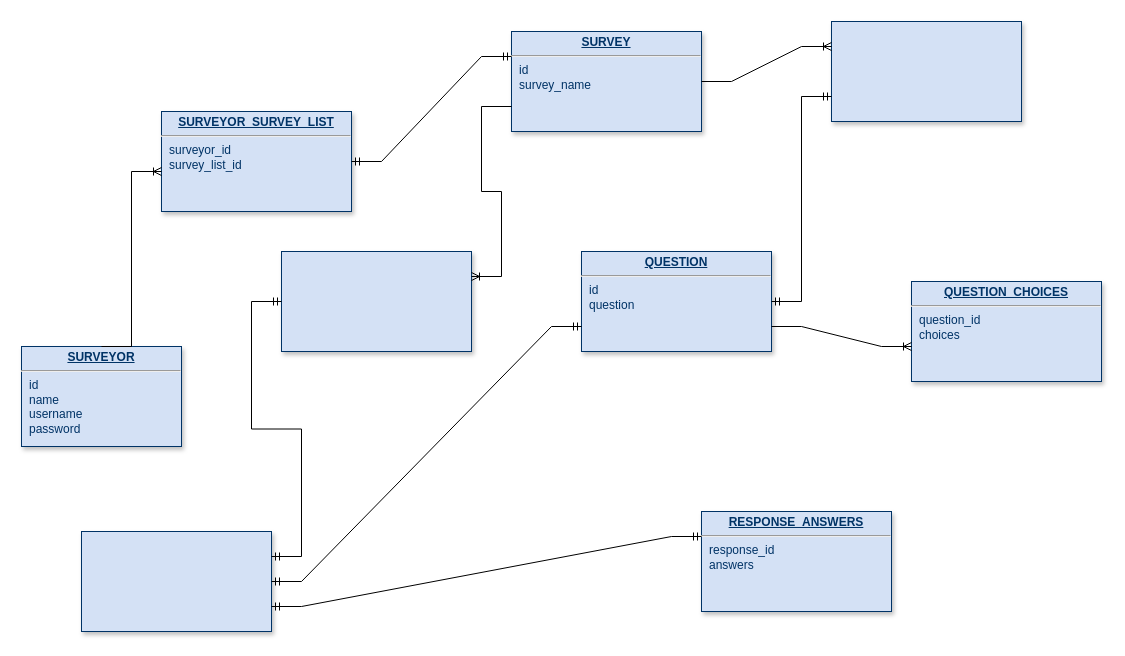
Some shapes in this 1125 by 656 pixel diagram are drawn without their labels. Each missing label, with the centre of its shape:
"RESPONSE id qtype question_id" goes at point 177,582.
"SURVEY_QUESTIONS survey_id questions_id" goes at point 927,72.
"SURVEY_RESPONSES survey_id responses_id" goes at point 377,302.
